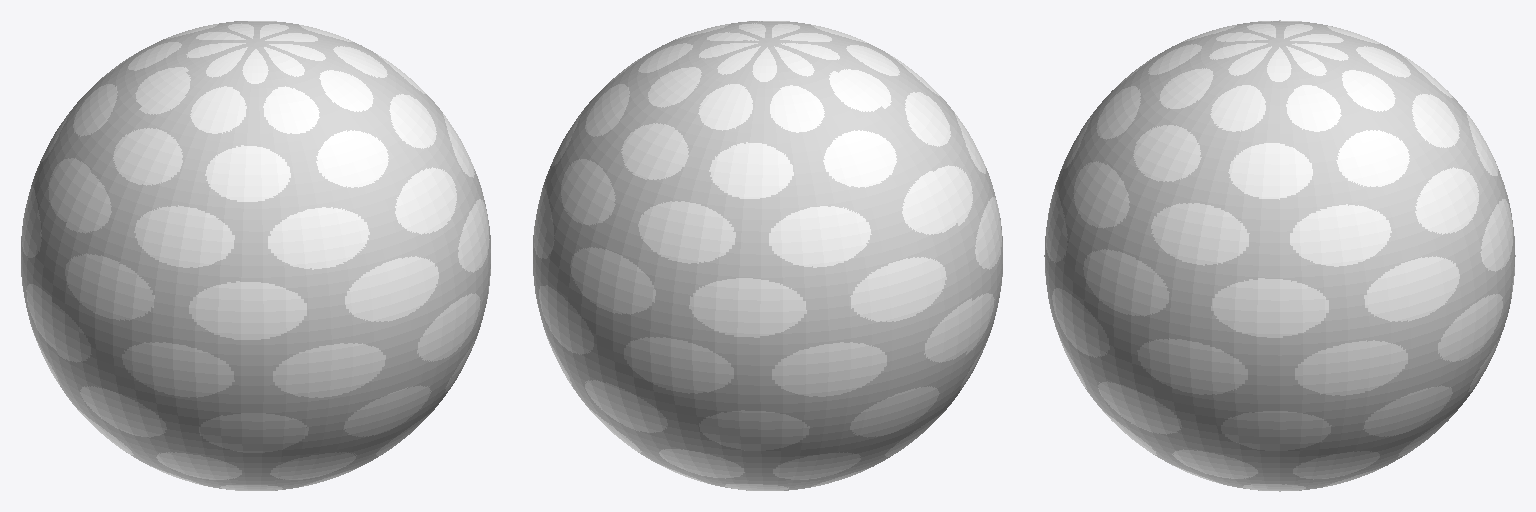
3 views of the same model, side by side, from view 1: azimuth 30°, elevation 25°; view 2: azimuth 150°, elevation 25°; view 3: azimuth 270°, elevation 25° (orthographic).
Visible parts, largest first — view 1: Sphere; view 2: Sphere; view 3: Sphere.
Part boxes in pixels (left/top/right/bottom): Sphere: left=21, top=21, right=490, bottom=490; Sphere: left=533, top=21, right=1002, bottom=490; Sphere: left=1044, top=20, right=1515, bottom=491.
Size of the model in its own units: 3347 by 3347 by 3347.
Materials: 1 (1 with a texture image).